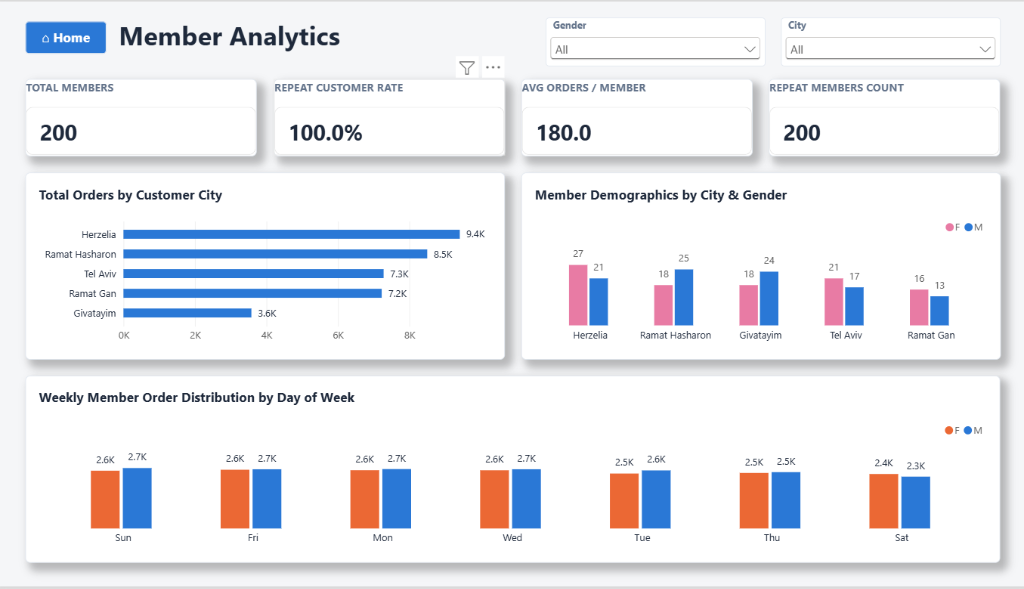

The page's visual inventory and layout, read from the dashboard file:
{"tool":"powerbi","page":{"name":"Members","canvas":[1280,720],"ordinal":3},"visuals":[{"type":"actionButton","box":[40,25,100,40],"z":0},{"type":"slicer","fields":{"Values":["members.Sex"]},"box":[680,20,270,60],"z":1},{"type":"textbox","box":[155,20,500,50],"z":2},{"type":"cardVisual","title":"TOTAL MEMBERS","fields":{"Data":["KPI Measures.Total Members"]},"box":[40,95,285,95],"z":3},{"type":"cardVisual","title":"REPEAT CUSTOMER RATE","fields":{"Data":["KPI Measures.Repeat Customer %"]},"box":[345,95,285,95],"z":4},{"type":"cardVisual","title":"AVG ORDERS / MEMBER","fields":{"Data":["KPI Measures.Orders Per Customer"]},"box":[650,95,285,95],"z":5},{"type":"cardVisual","title":"REPEAT MEMBERS COUNT","fields":{"Data":["KPI Measures.Repeat Customers"]},"box":[955,95,285,95],"z":6},{"type":"slicer","fields":{"Values":["cities.CityName"]},"box":[970,20,270,60],"z":7},{"type":"clusteredBarChart","title":"Total Orders by Customer City","fields":{"Category":["cities.City"],"Y":["KPI Measures.Total Orders"]},"box":[40,210,590,230],"z":8},{"type":"clusteredColumnChart","title":"Member Demographics by City & Gender","fields":{"Category":["cities.City"],"Series":["members.Sex"],"Y":["KPI Measures.Active Members"]},"box":[650,210,590,230],"z":9},{"type":"clusteredColumnChart","title":"Weekly Member Order Distribution by Day of Week","fields":{"Category":["Date.Weekday"],"Series":["members.Sex"],"Y":["KPI Measures.Total Orders"]},"box":[40,460,1200,230],"z":10}]}

Visuals, with their boxes in screenshot pixels (x1, y1, x2, y2), scaled from the page's 1280x720 canvas onto the 1024x589 screenshot:
actionButton: select_region(32, 20, 112, 53)
slicer - members.Sex: select_region(544, 16, 760, 65)
textbox: select_region(124, 16, 524, 57)
"TOTAL MEMBERS" cardVisual: select_region(32, 78, 260, 155)
"REPEAT CUSTOMER RATE" cardVisual: select_region(276, 78, 504, 155)
"AVG ORDERS / MEMBER" cardVisual: select_region(520, 78, 748, 155)
"REPEAT MEMBERS COUNT" cardVisual: select_region(764, 78, 992, 155)
slicer - cities.CityName: select_region(776, 16, 992, 65)
"Total Orders by Customer City" clusteredBarChart: select_region(32, 172, 504, 360)
"Member Demographics by City & Gender" clusteredColumnChart: select_region(520, 172, 992, 360)
"Weekly Member Order Distribution by Day of Week" clusteredColumnChart: select_region(32, 376, 992, 564)
